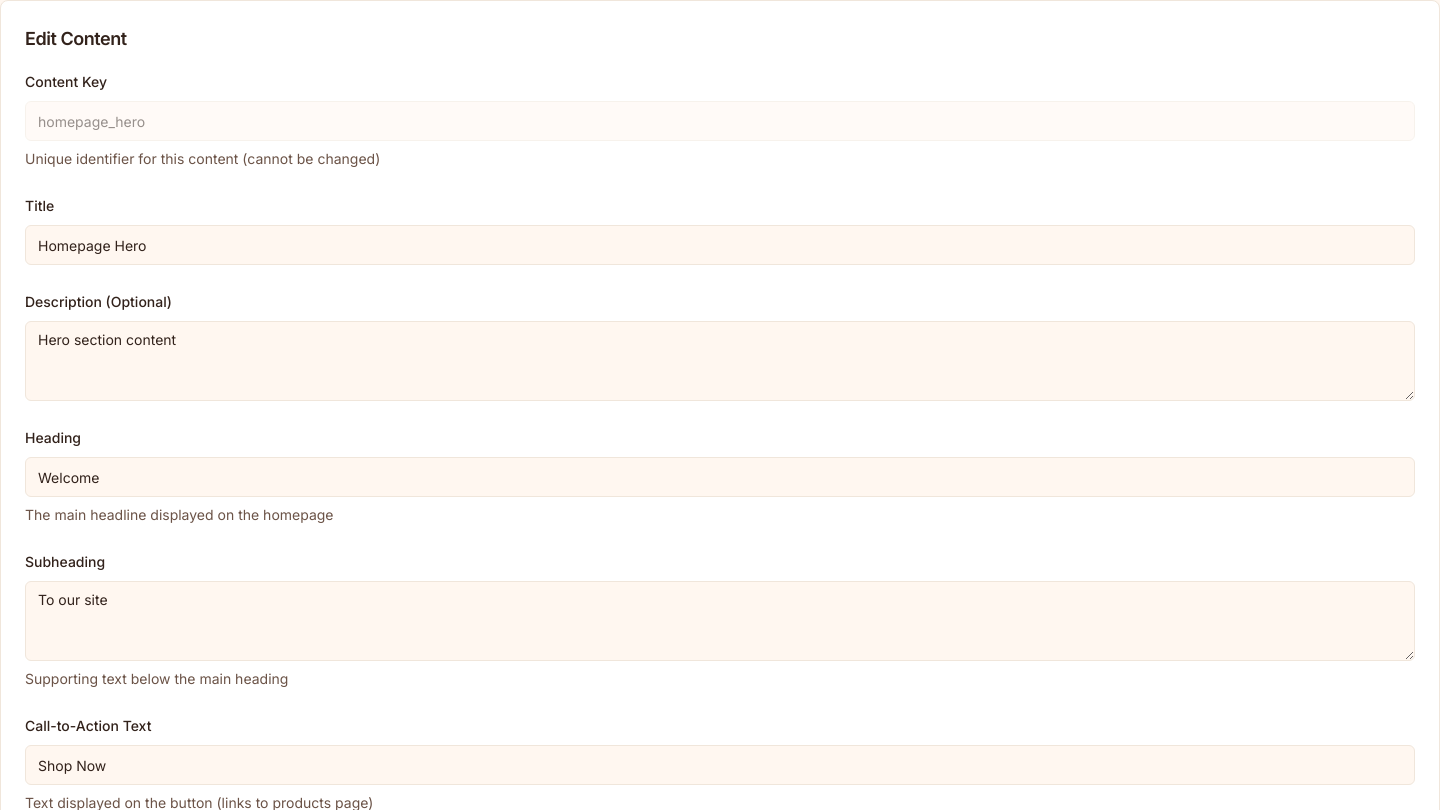
it: ContentEditor › resets form when reset button is clicked
This screenshot has width=1440, height=810.
Replace the text in the field showing "Homepage Hero" with "Changed Title". click: (720, 245)
box: [25,225,1415,265]
(page scrolled)
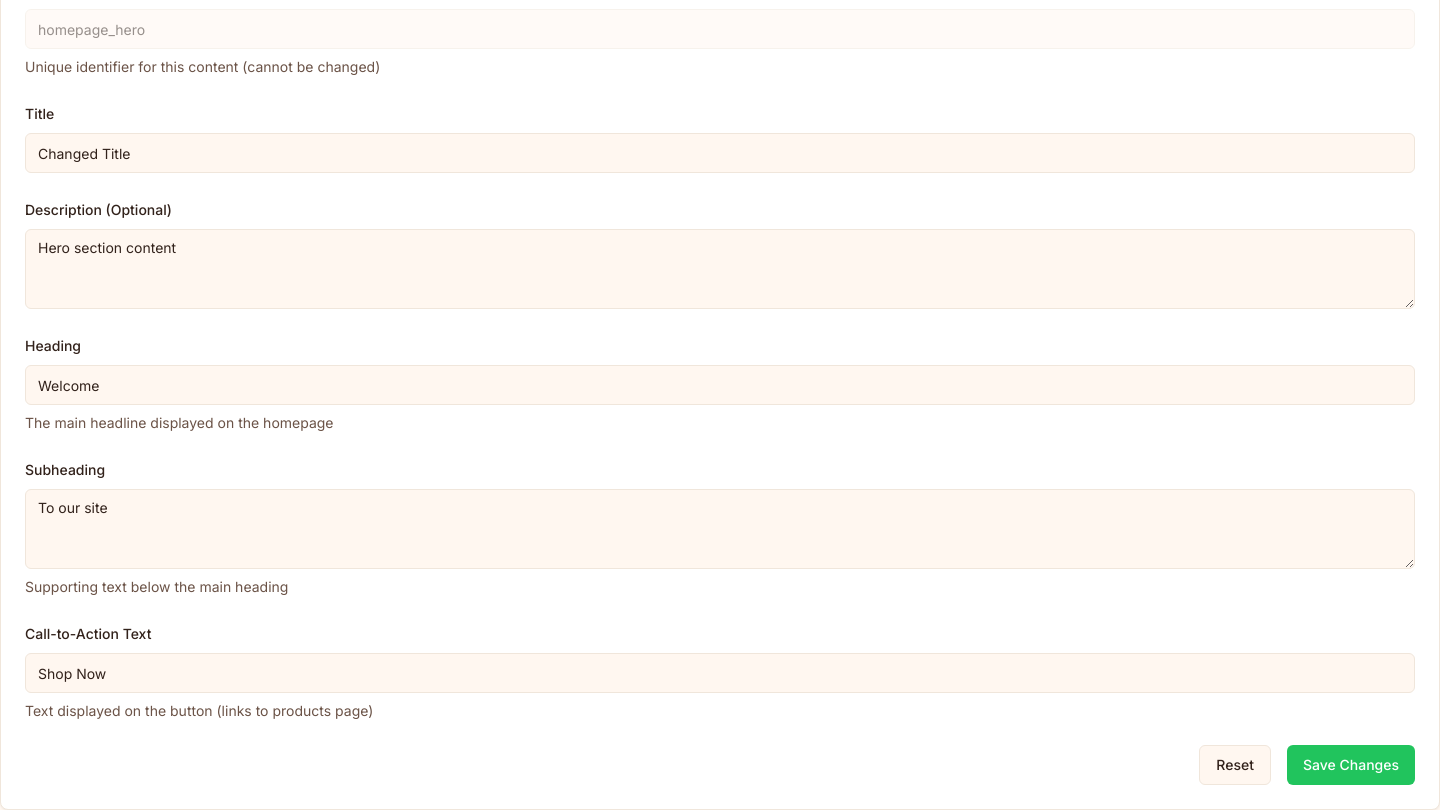
Click the button "Reset". click: (1235, 765)
box: [1199,745,1271,785]
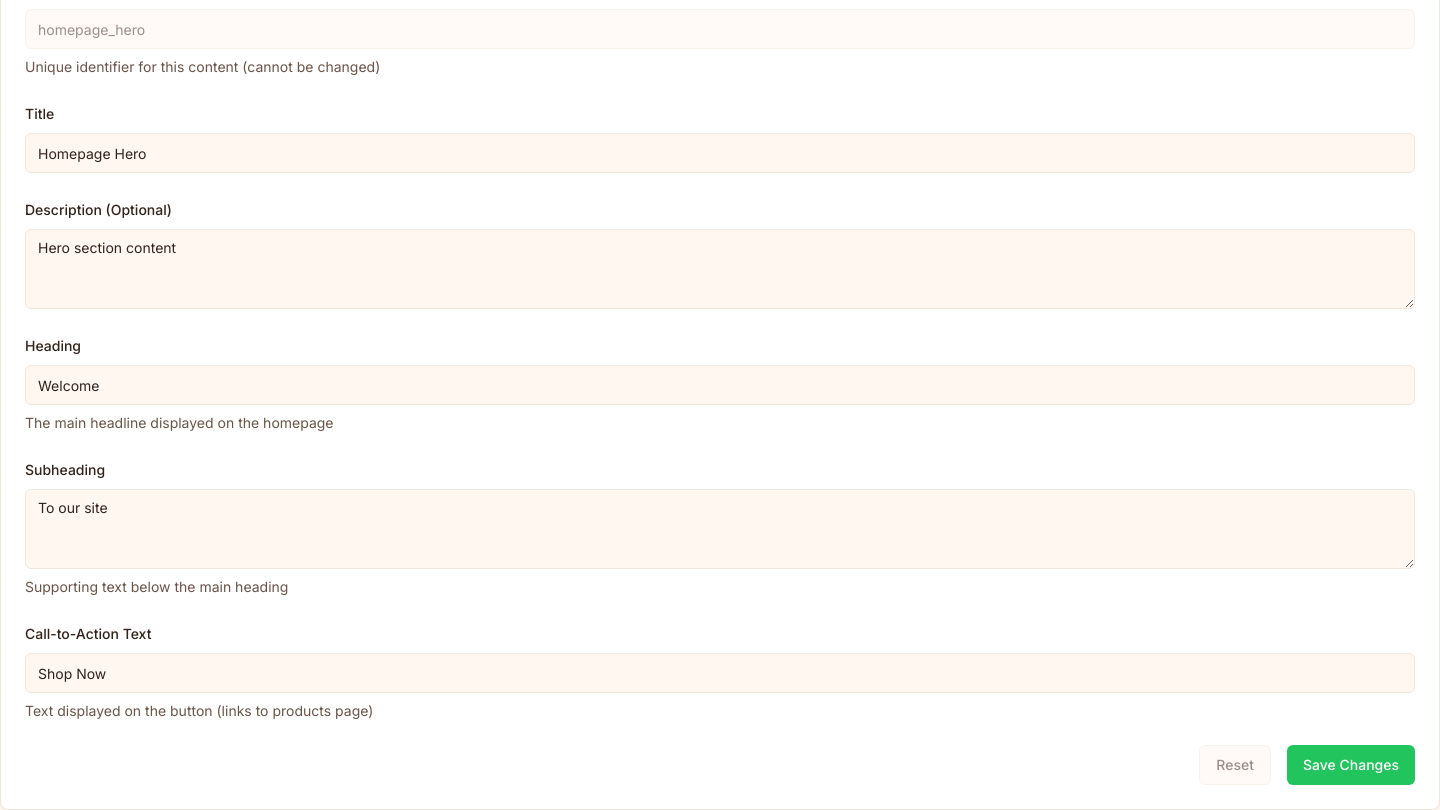
Result: the field showing "Homepage Hero" is shown at [25,133,1415,173]
